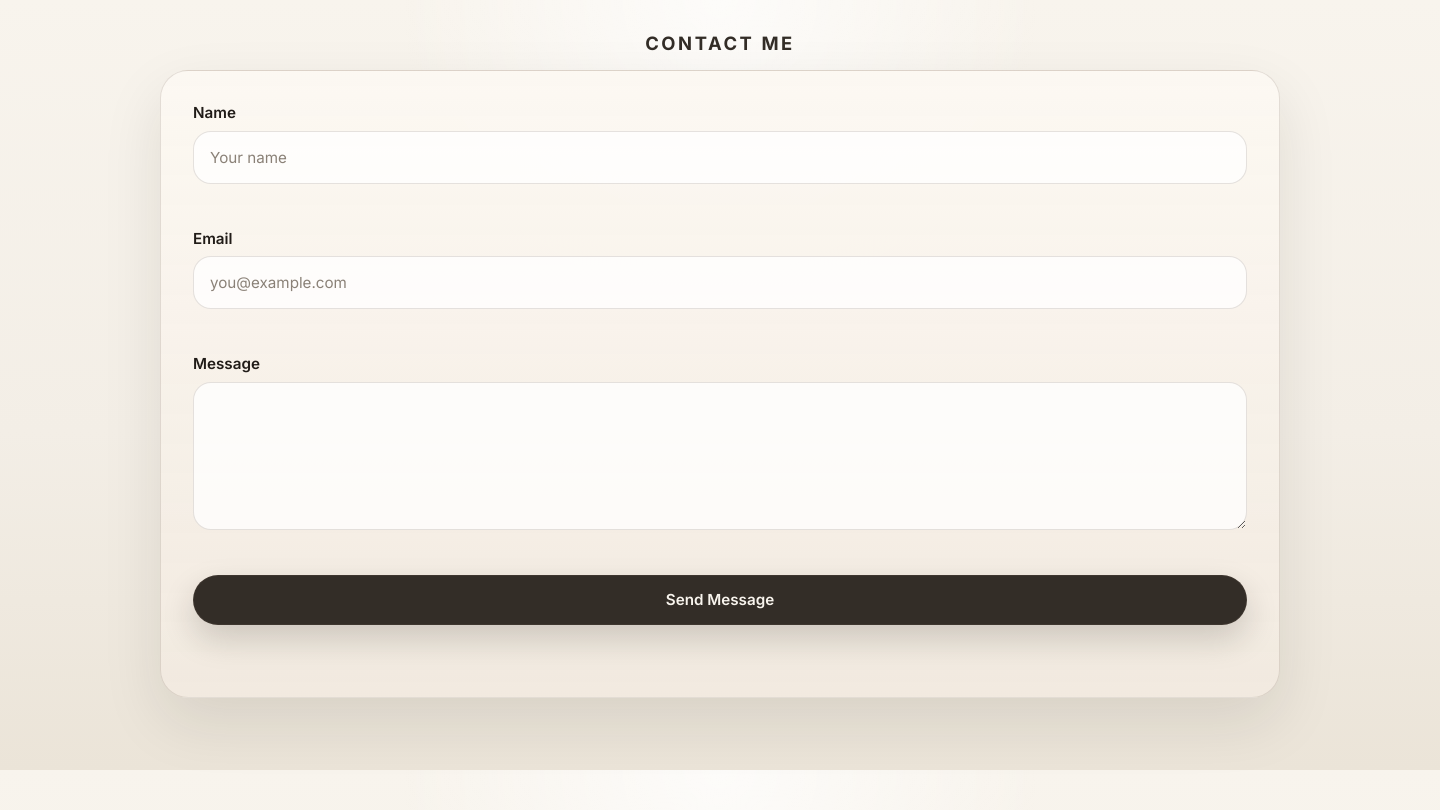
Test: ContactForm › should show a success message when the submission succeeds
Step 1. Type "Fadma" into the field labelled "Name" → (720, 157), box [193,131,1247,184]
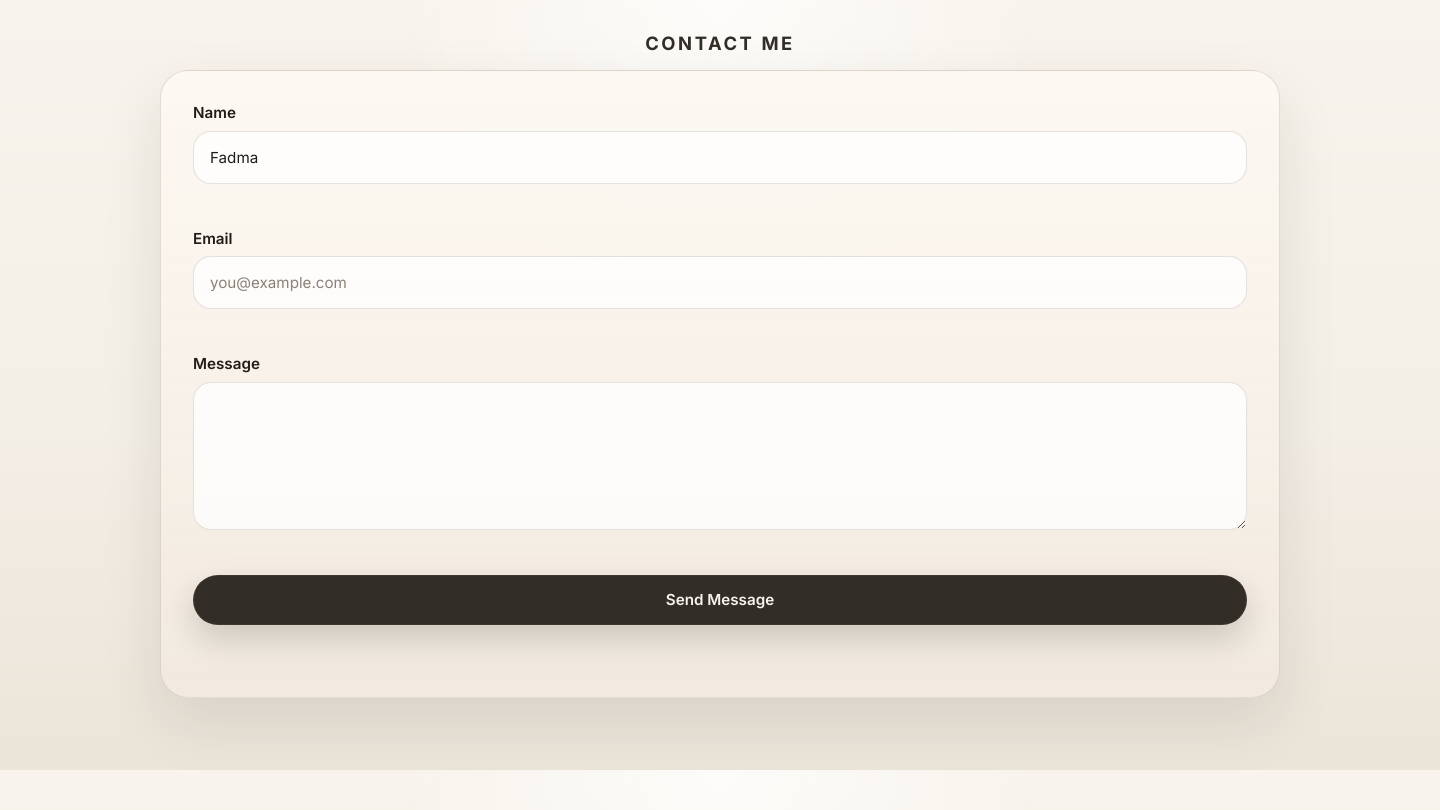
Step 2. Type "fadma@example.com" into the field labelled "Email" → (720, 283), box [193,256,1247,309]
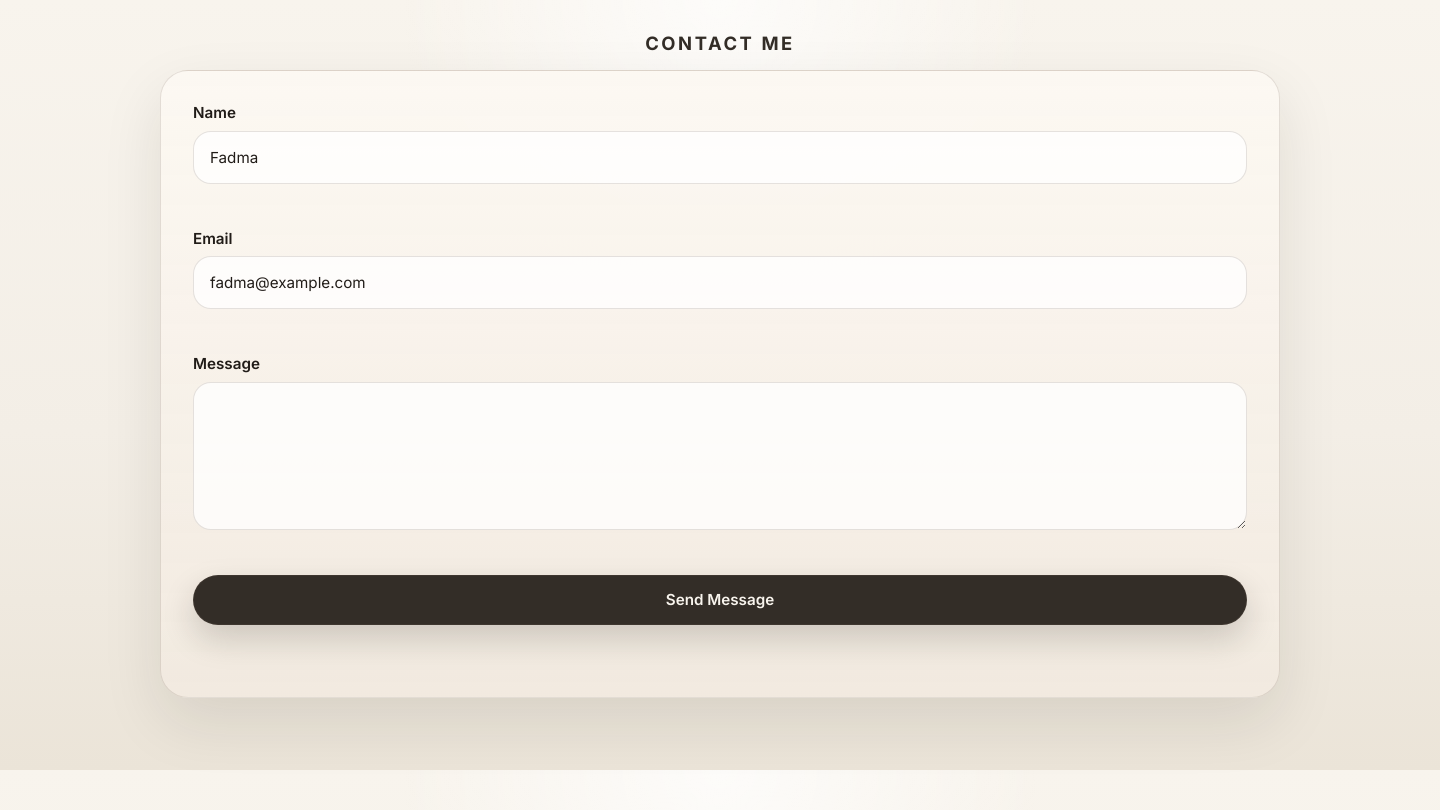
Step 3. Type "I'd like to discuss a new build for a healthcare team." into the text box labelled "Message" → (720, 456), box [193,382,1247,530]
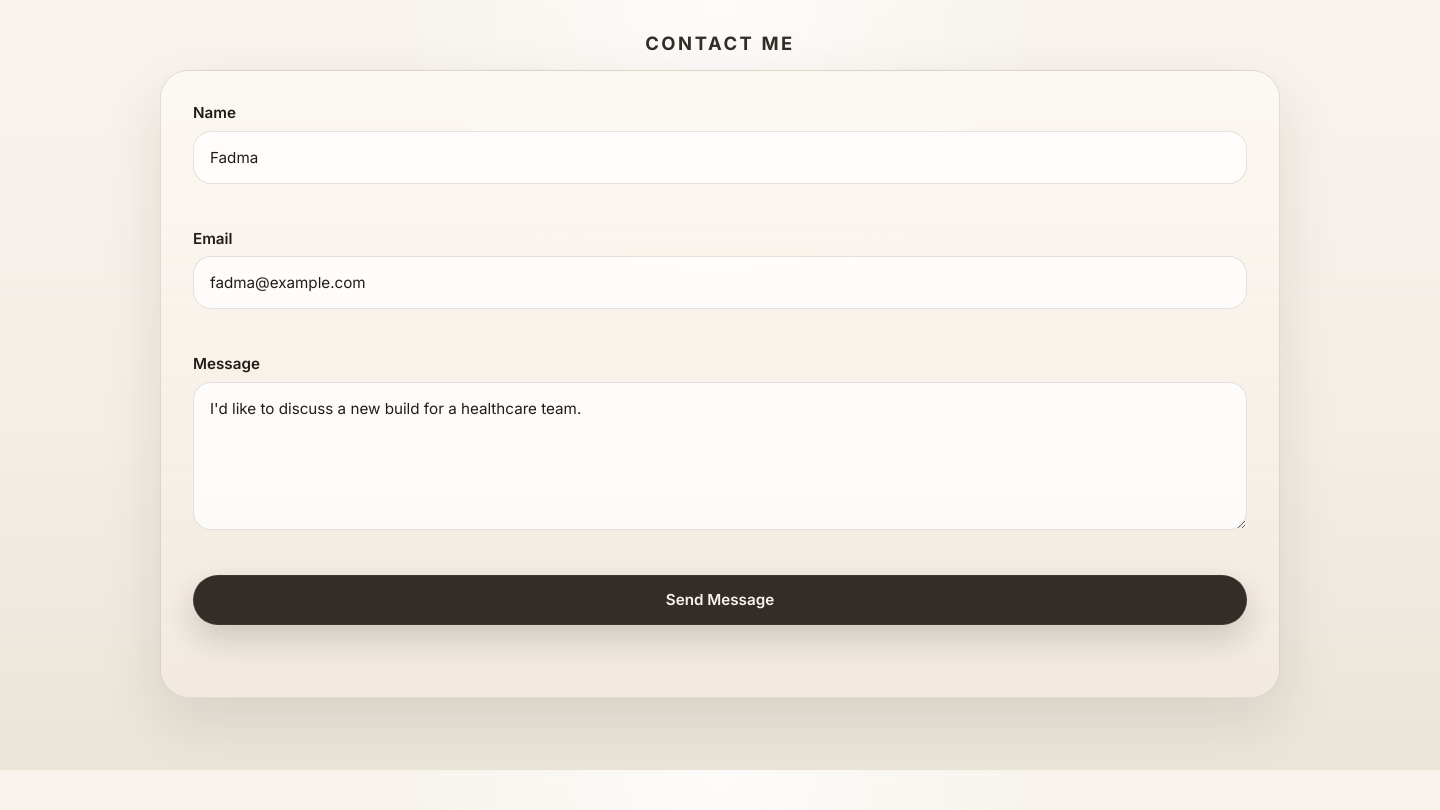
Step 4. Click the button "Send Message" → click(720, 600), box [193,575,1247,625]
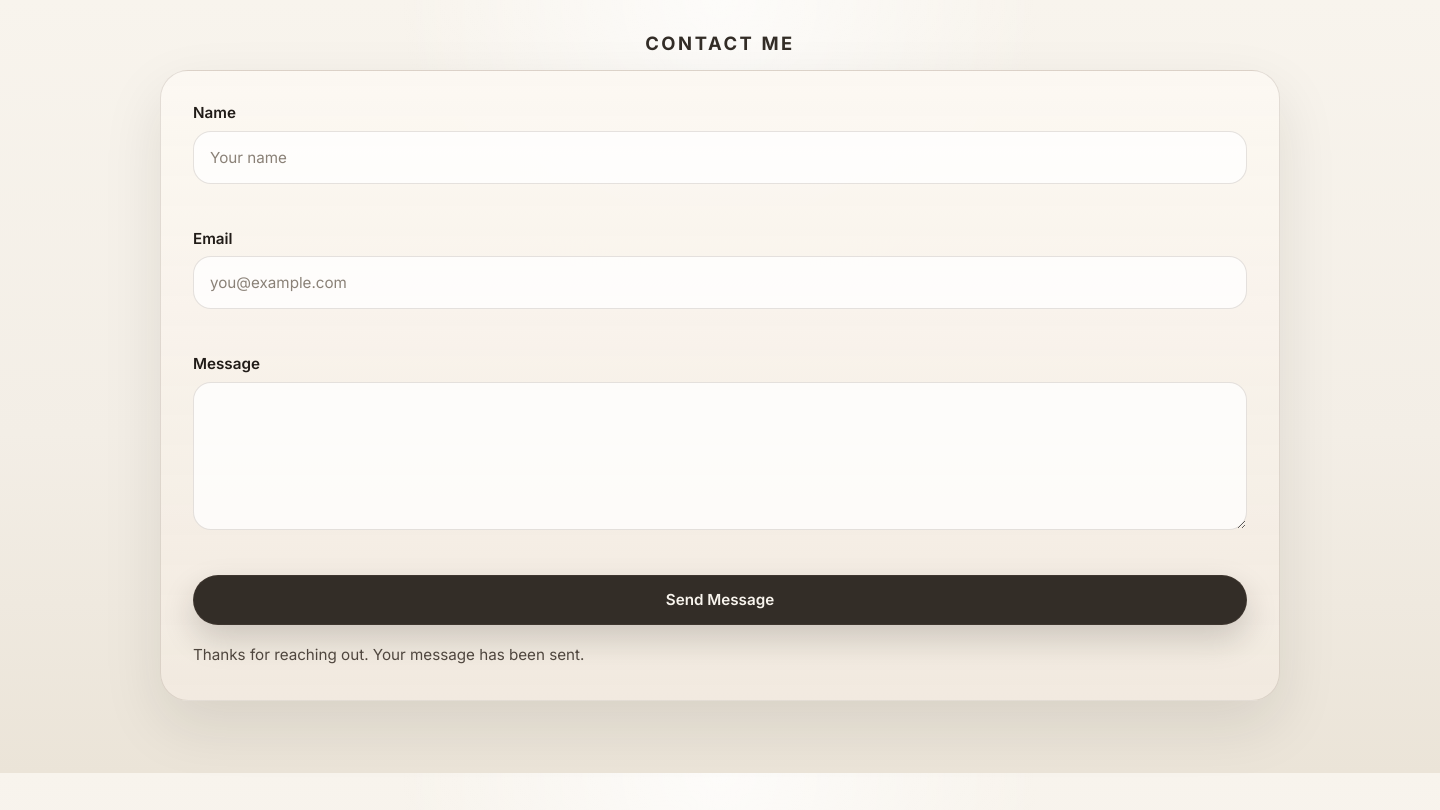
Result: the text "Thanks for reaching out. Your message has been sent." is shown at [193,645,584,664]
